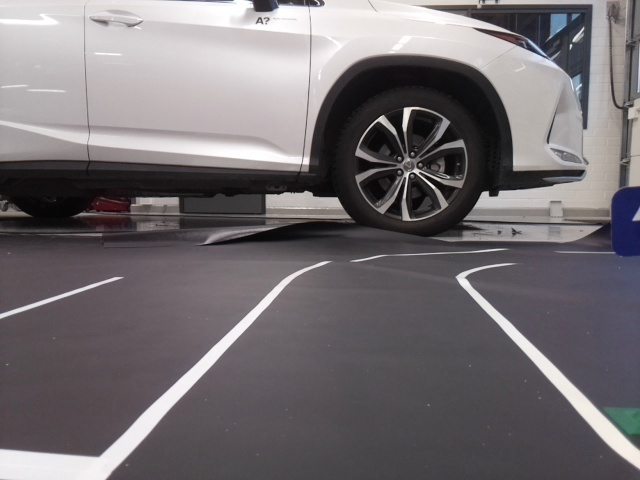OneWay: (610, 189, 639, 254)
